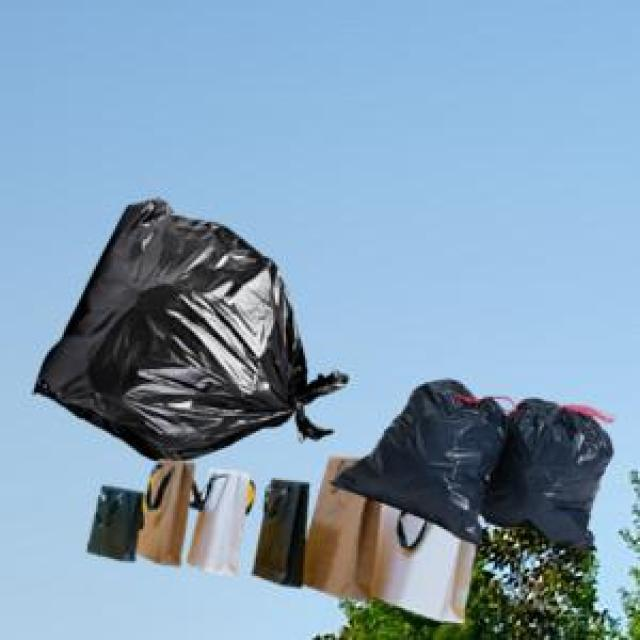miscellaneous trash: (30, 194, 344, 457), (326, 376, 610, 546)
paper: (83, 454, 472, 619)
